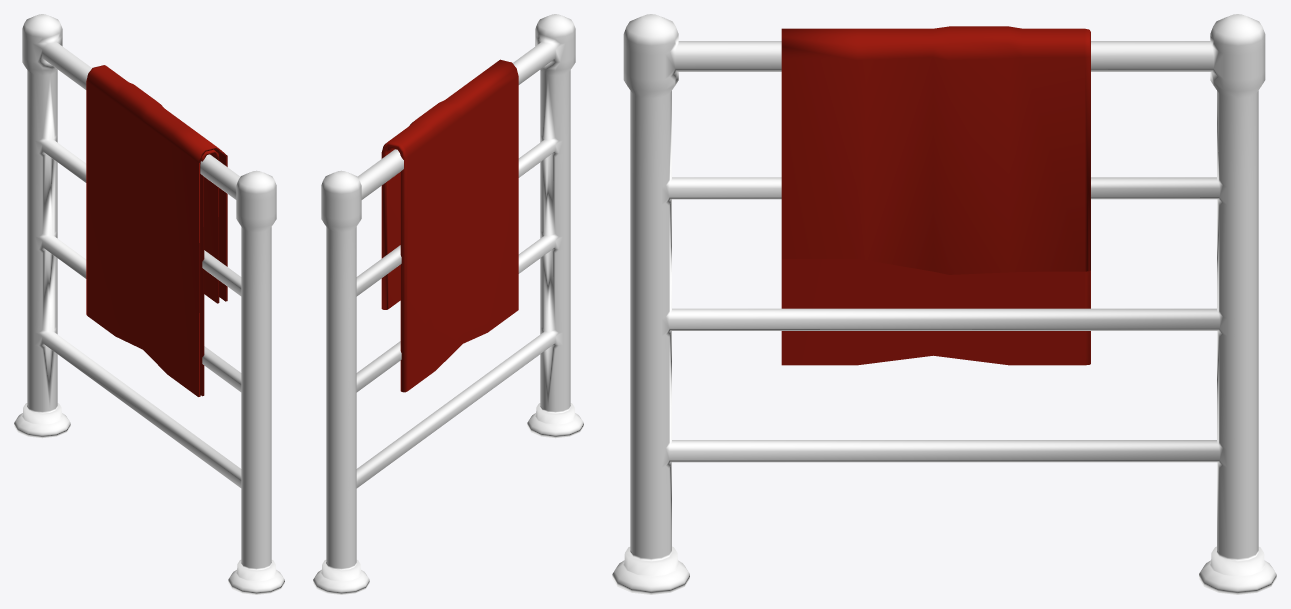
The model's file is SM_TowelHolder_02.fbx.
3 views of the same model, side by side, from view 1: azimuth 30°, elevation 25°; view 2: azimuth 150°, elevation 25°; view 3: azimuth 270°, elevation 25° (orthographic). The views are drawn at different scales.
Visible parts, largest first — view 1: SM_TowelHolder_02; view 2: SM_TowelHolder_02; view 3: SM_TowelHolder_02.
Boxes of the visible parts, x1,y1,x2,y2 form: SM_TowelHolder_02: (14,14,284,594); SM_TowelHolder_02: (313,14,583,594); SM_TowelHolder_02: (612,14,1276,594).
Bounding box in the file's own units: 4.93 × 39.37 × 42.23.
